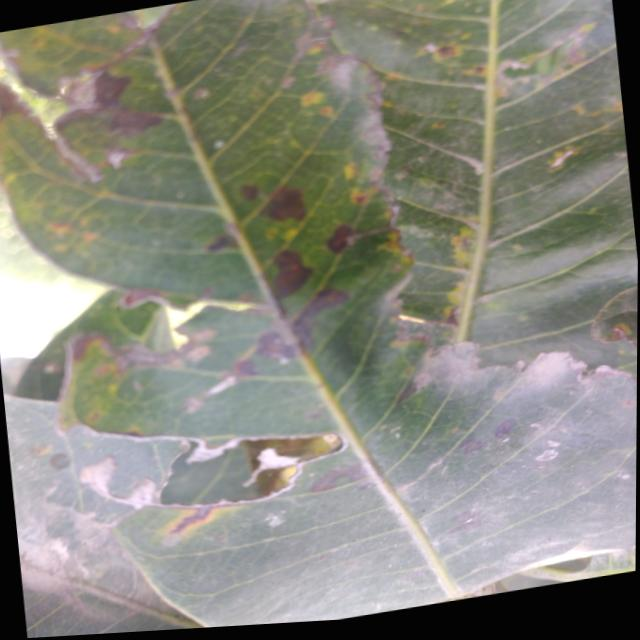Anthracnose: (59, 71, 160, 147), (256, 246, 318, 310), (245, 183, 312, 235), (315, 222, 357, 261), (205, 230, 235, 258), (427, 38, 458, 63)
Powdery Mildew: (68, 449, 159, 522), (245, 443, 297, 480), (530, 444, 559, 466)
